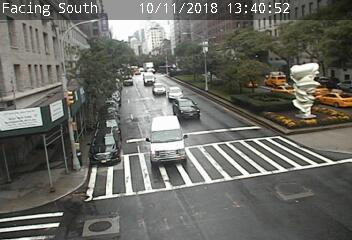car: (151, 115, 186, 165), (89, 128, 120, 165), (315, 90, 352, 107), (173, 98, 200, 120), (263, 75, 286, 87), (271, 86, 296, 96), (168, 87, 184, 101), (143, 72, 156, 86), (153, 83, 165, 95)
